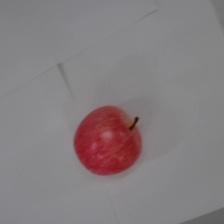red: (72, 103, 143, 176)
